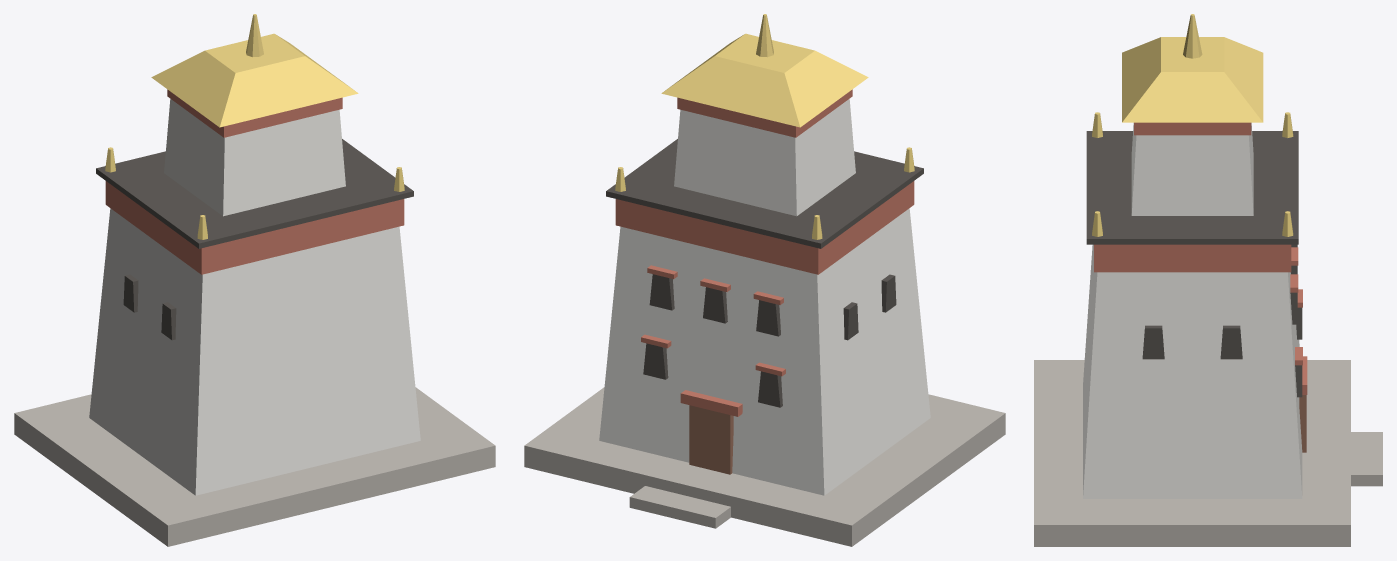
3 renders of one model, left to right at view 1: azimuth 30°, elevation 25°; view 2: azimuth 150°, elevation 25°; view 3: azimuth 270°, elevation 25°, orthographic. The views are drawn at different scales.
Parts seen in each view (by area): view 1: WB_larchDrumTower; view 2: WB_larchDrumTower; view 3: WB_larchDrumTower.
Part boxes in pixels (x1,y1,x2,y2): WB_larchDrumTower: [14, 14, 495, 546]; WB_larchDrumTower: [524, 14, 1005, 546]; WB_larchDrumTower: [1034, 14, 1382, 546].
Size of the model in its own units: 16 by 20.35 by 14.3.
